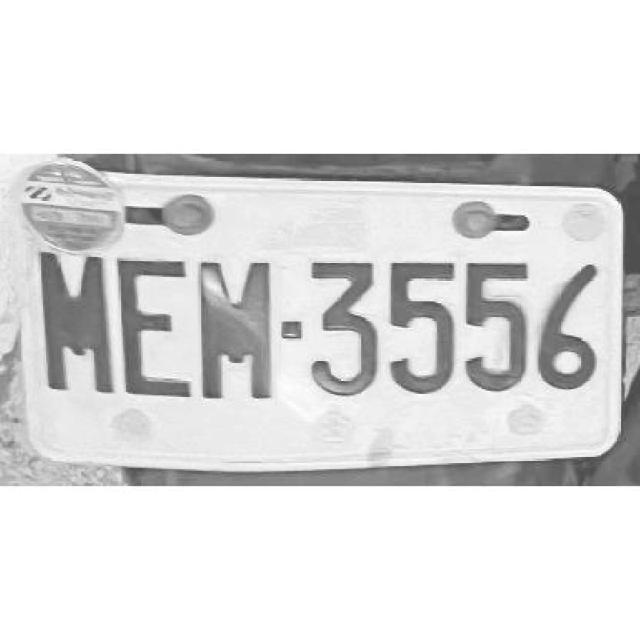-: (278, 317, 302, 341)
3: (305, 256, 377, 398)
5: (385, 251, 460, 400), (460, 255, 532, 397)
6: (536, 257, 604, 395)
E: (112, 252, 194, 394)
M: (34, 243, 117, 394), (194, 252, 274, 398)
